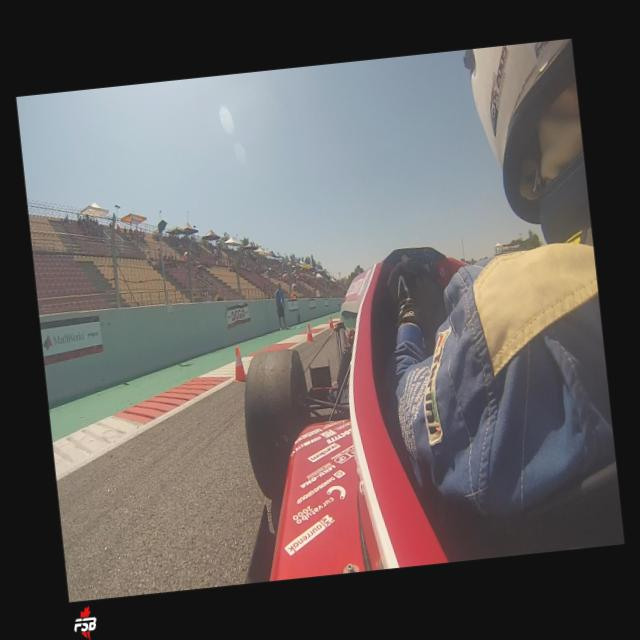orange_cone: (228, 345, 245, 383), (302, 322, 316, 342), (327, 314, 334, 330), (290, 292, 294, 298)
